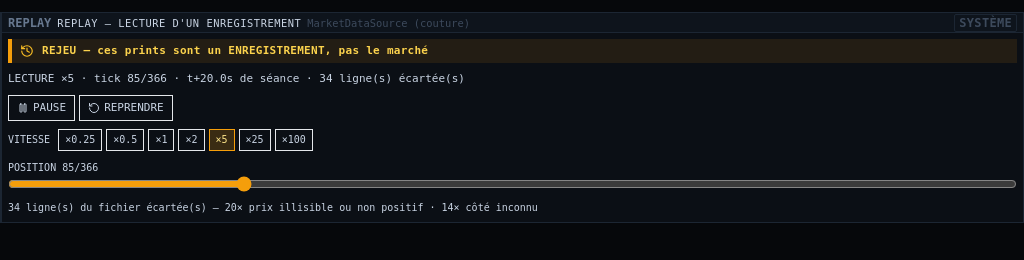
Test case: états dégradés › une commande refusée montre son MOTIF, jamais un échec muet
The image size is (1024, 260).
Click the button with test id "replay-restart": (126, 108) left=79, top=95, right=173, bottom=121
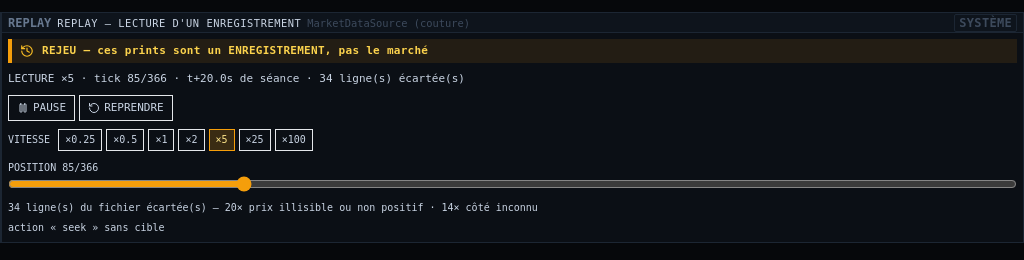
Check: the text with test id "replay-error" shows "sans cible", box left=8, top=222, right=164, bottom=233
